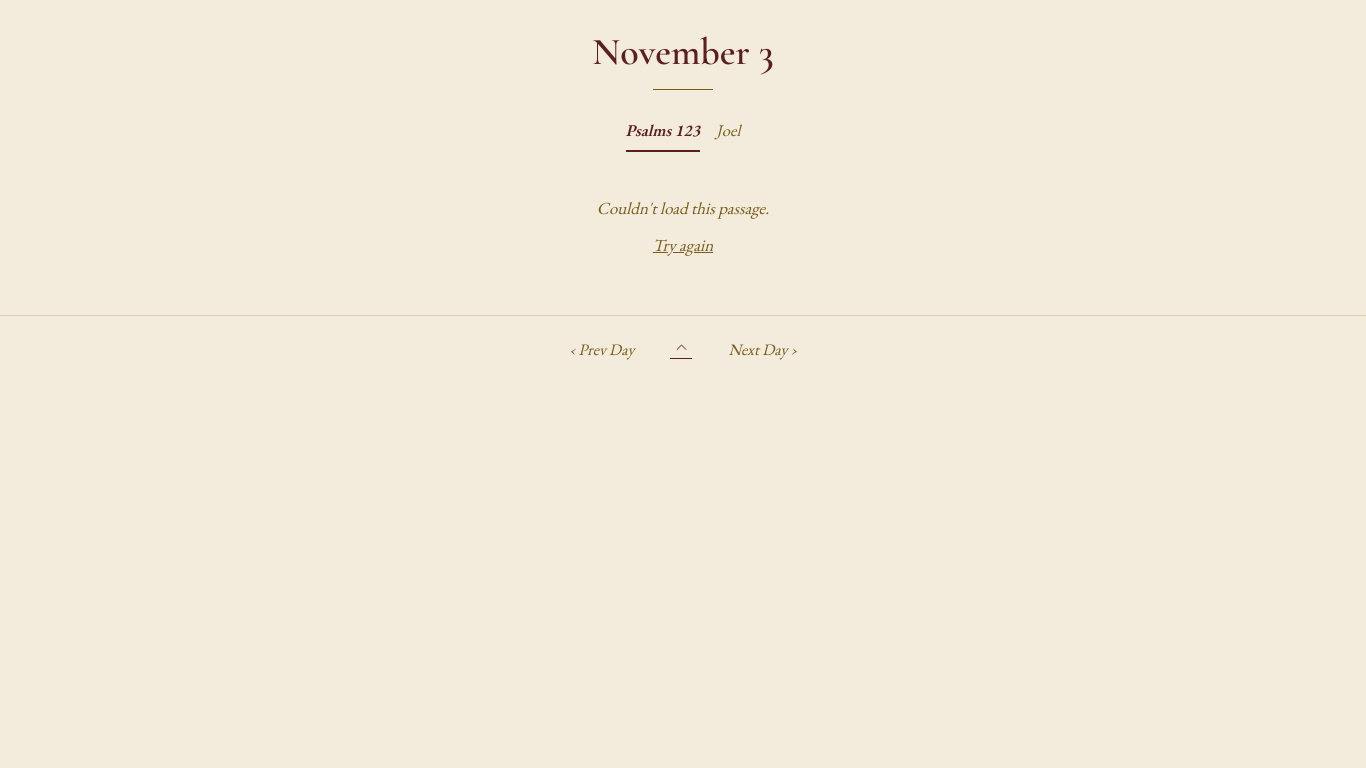
Test: DayPage fetch error › re-fetches on Try again and replaces the error with the reading
This screenshot has width=1366, height=768.
Check: the text "Couldn't load this passage." is shown, box [597, 196, 769, 221]
What coordinates should you click on to do the following:
click the button "Try again"
I would click on:
 (683, 246)
Its box is [653, 233, 713, 259].
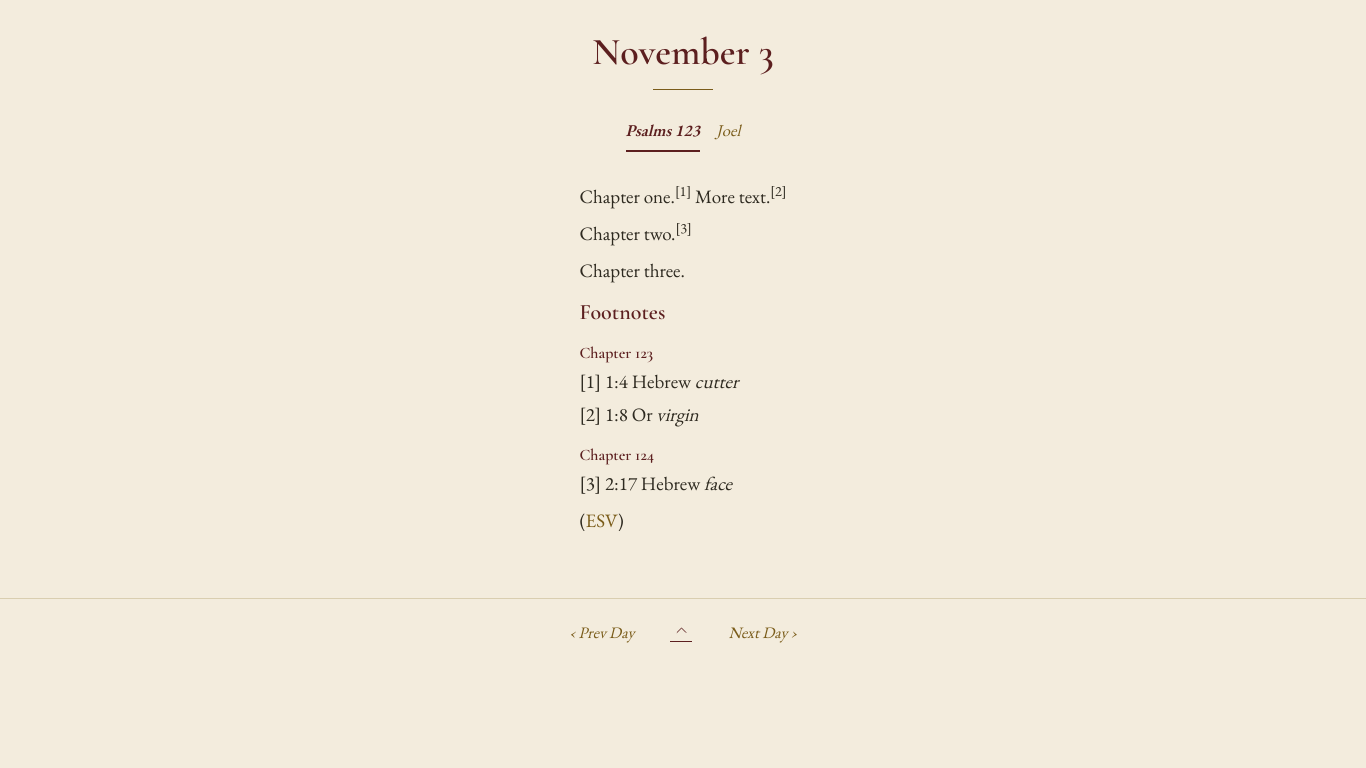
Check: the element with class "esv-passage" is shown, box [579, 180, 786, 538]
Check: the text "Couldn't load this passage." is gone
